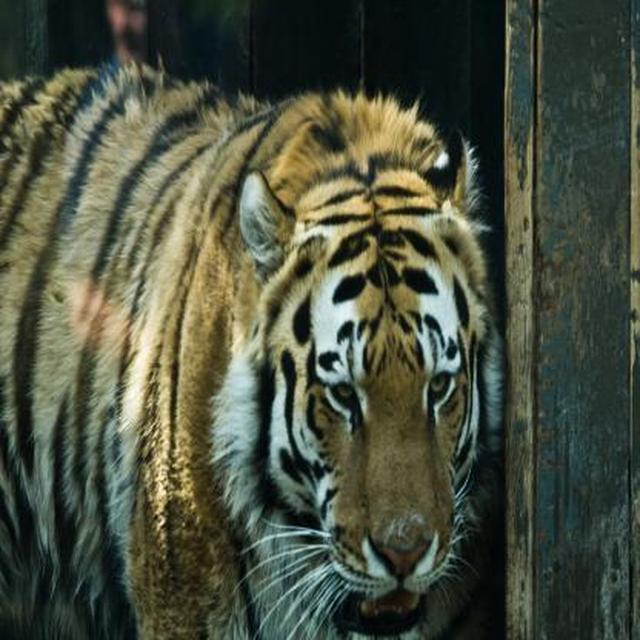tiger: (0, 56, 508, 639)
